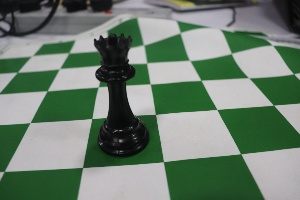black_queen: (77, 25, 154, 158)
